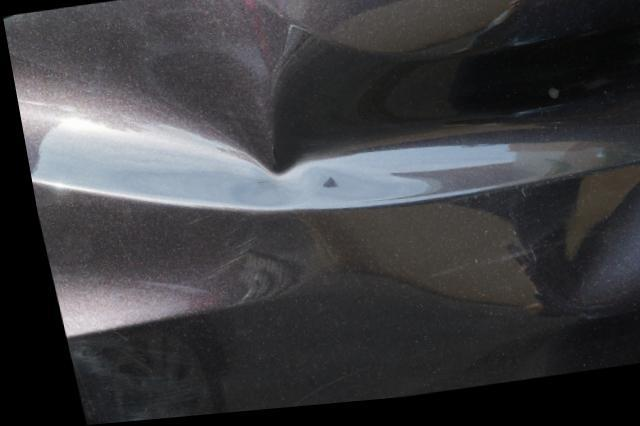dent: (153, 28, 640, 300)
